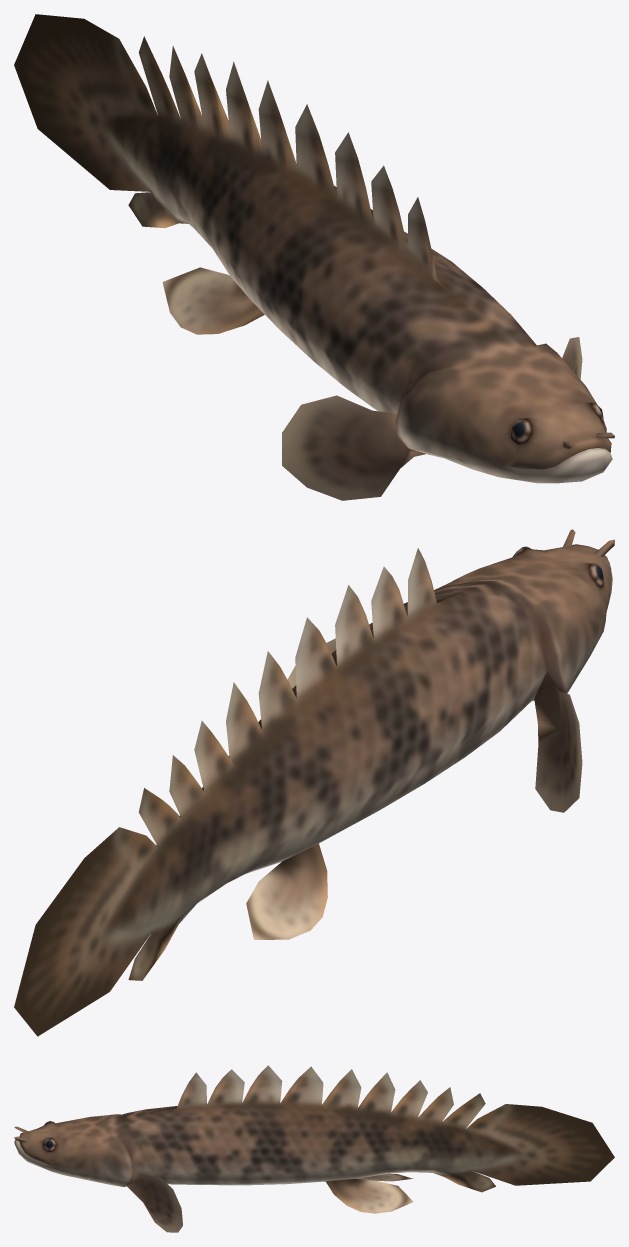
Rendered from bichir.glb.
3 renders of one model, top to bottom at view 1: azimuth 30°, elevation 25°; view 2: azimuth 150°, elevation 25°; view 3: azimuth 270°, elevation 25°, orthographic. The views are drawn at different scales.
Visible parts, largest first — view 1: FishEndorikerii__mEndorikerii; view 2: FishEndorikerii__mEndorikerii; view 3: FishEndorikerii__mEndorikerii.
Part boxes in pixels (box(x1,y1,x2,y2)): FishEndorikerii__mEndorikerii: box(14, 14, 614, 500); FishEndorikerii__mEndorikerii: box(14, 529, 614, 1036); FishEndorikerii__mEndorikerii: box(14, 1065, 614, 1232).
Size of the model in its own units: 3.6 by 3.11 by 12.04.
Materials: 1 (1 with a texture image).
